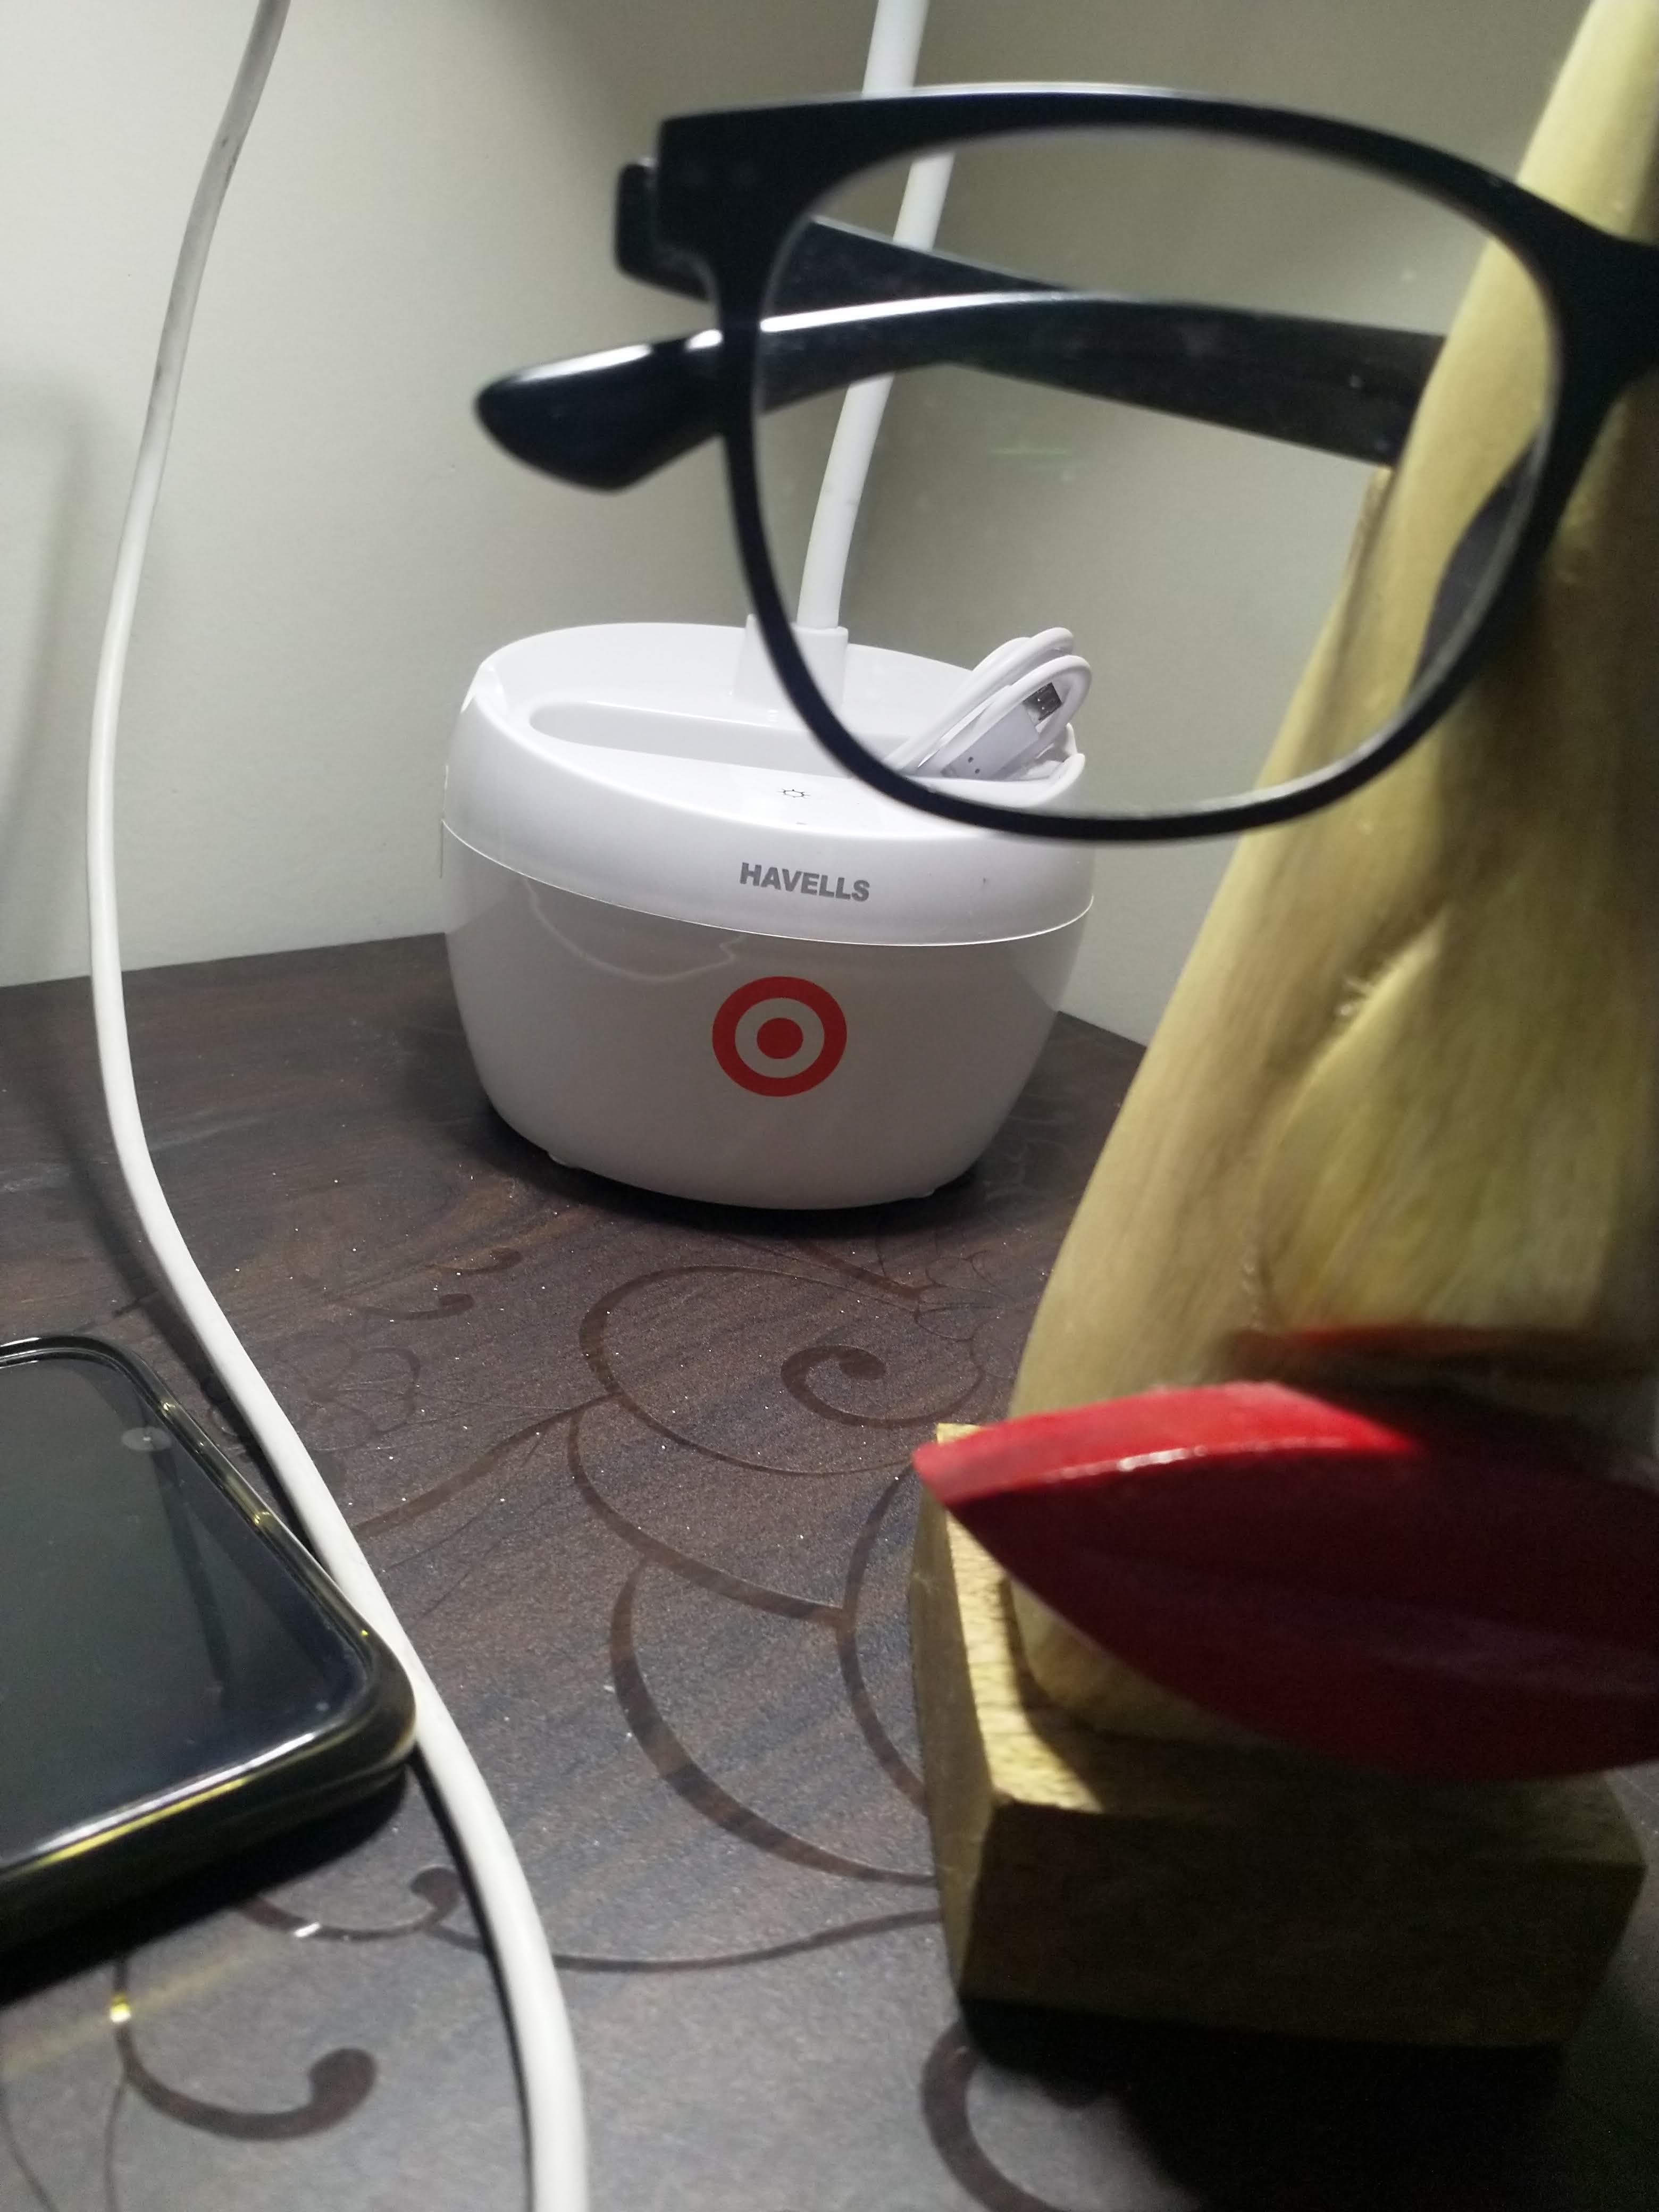bullseye: (704, 963, 859, 1113)
